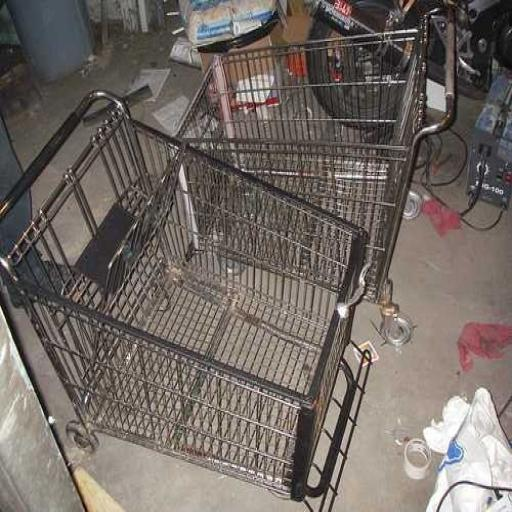shopping_cart: (0, 86, 369, 502), (170, 0, 460, 348)
